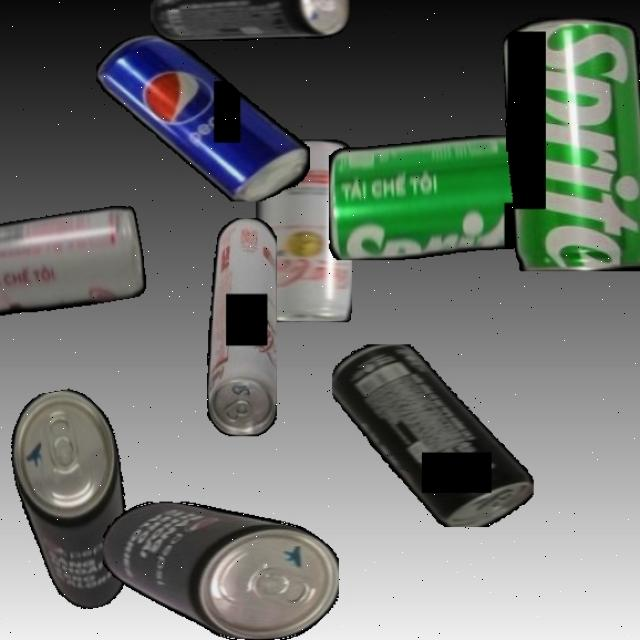debris: (332, 343, 534, 527), (96, 35, 310, 202), (502, 16, 640, 271), (2, 383, 144, 617), (102, 501, 339, 640), (328, 134, 540, 260), (0, 199, 149, 324), (255, 140, 352, 322), (206, 217, 277, 436), (149, 0, 350, 41)
